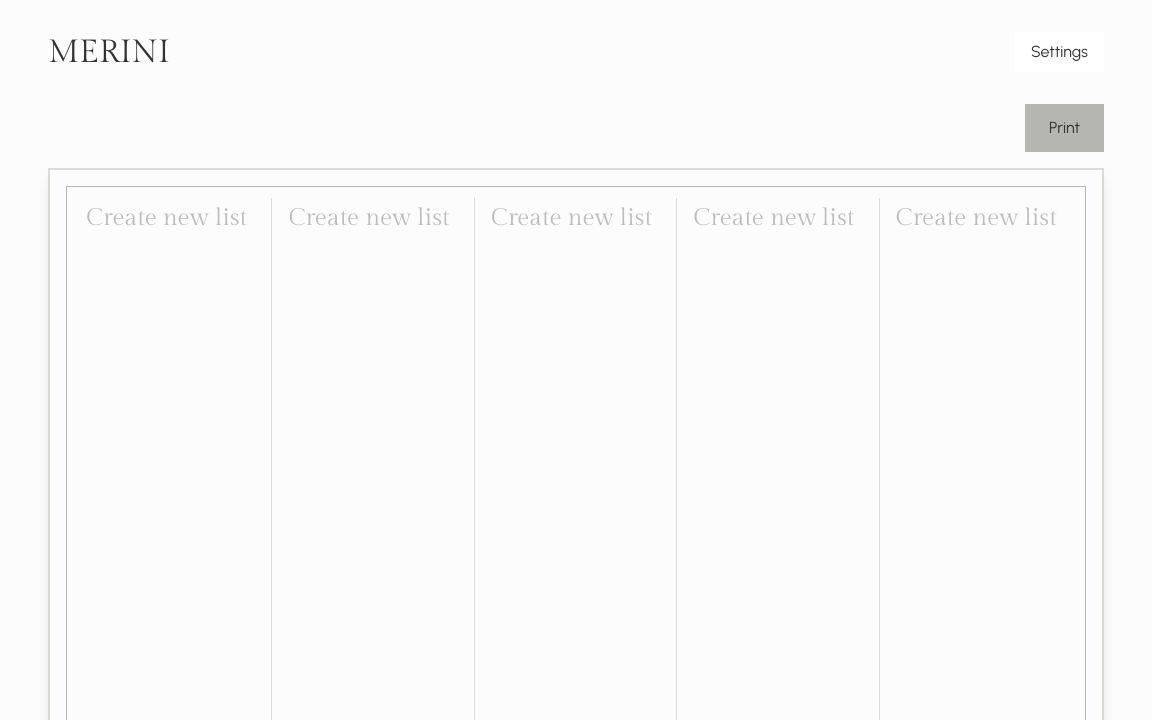
Test case: App - Empty State (No Lists) › can cancel creating first list
// Click first "Create new list" button
Click the 1st button "Create new list".
click(167, 218)  # box [78, 198, 255, 238]
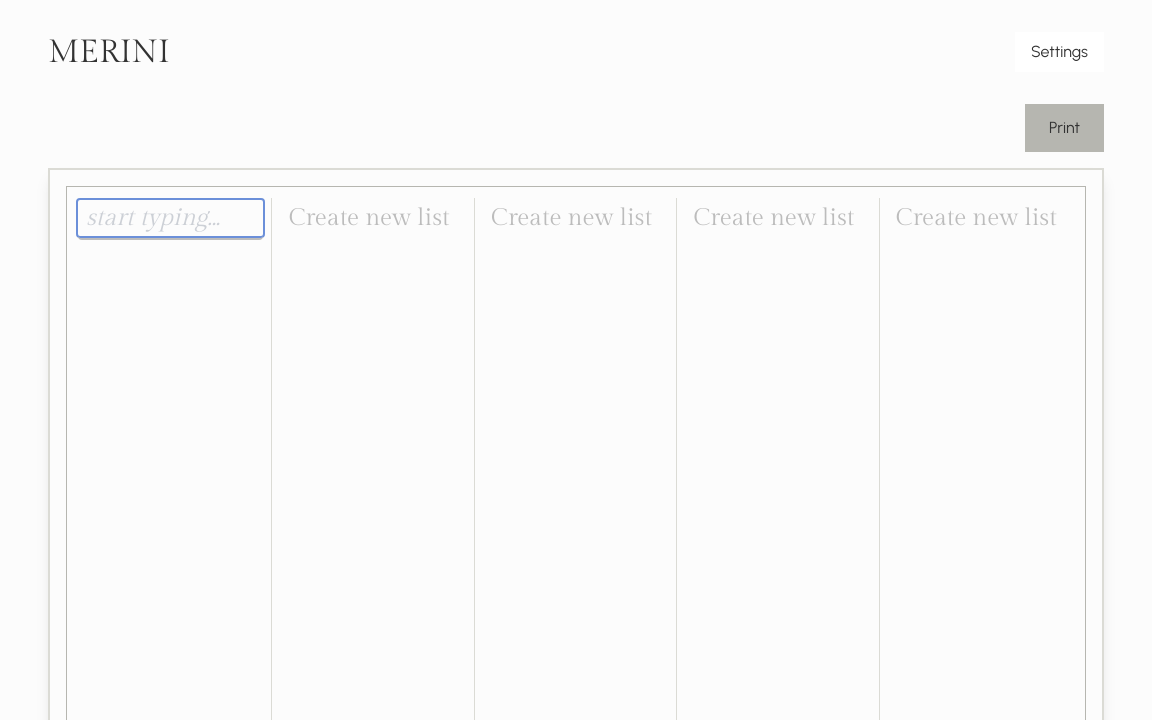
expect the field named "enter list name" is shown: met, box [78, 196, 263, 240]
// Press Escape to cancel
Press Escape
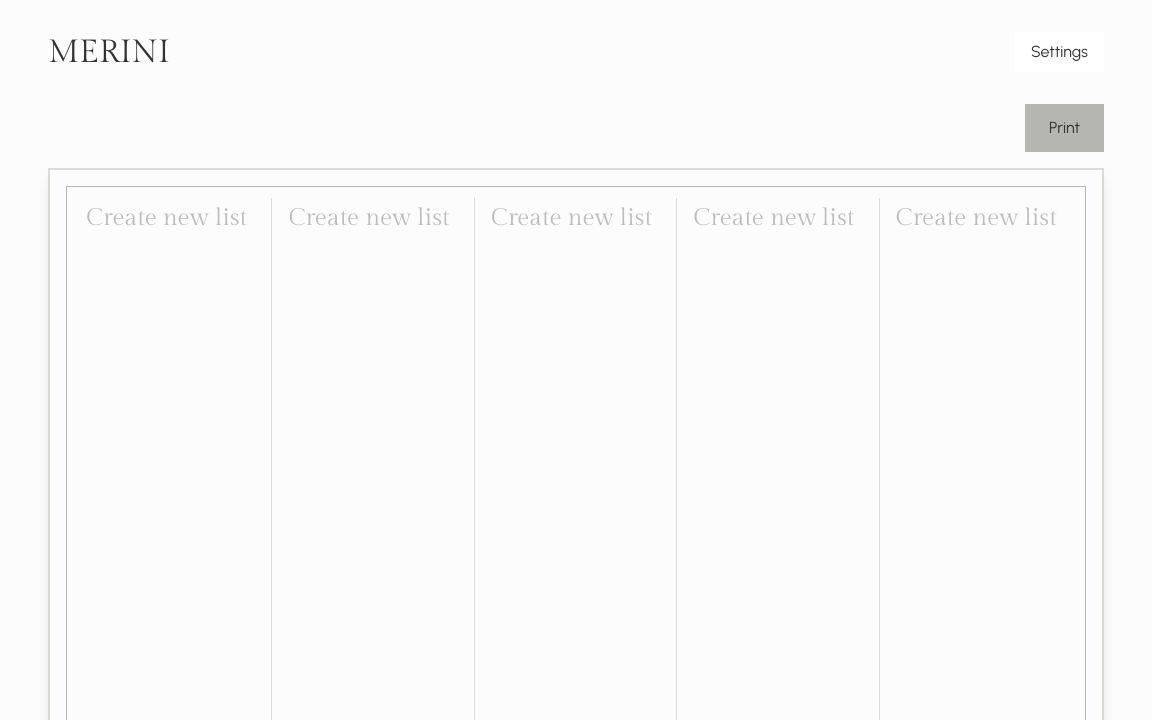
expect the 1st button "Create new list" is shown: met, box [78, 198, 255, 238]
